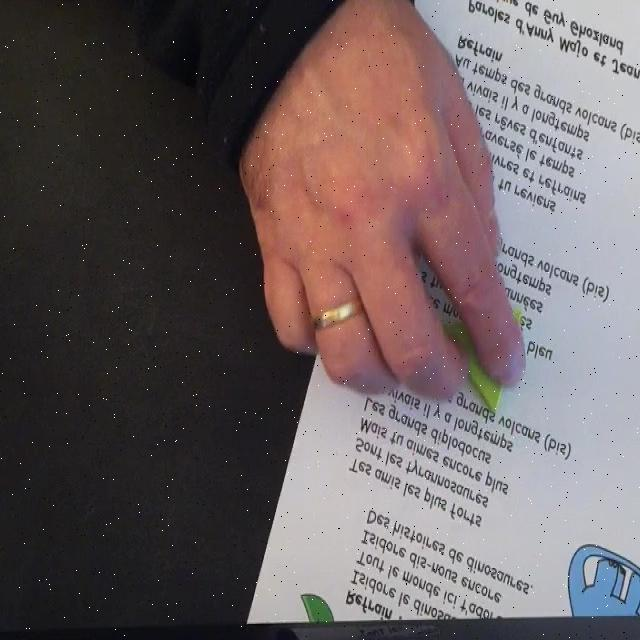triangle: (435, 307, 522, 419)
